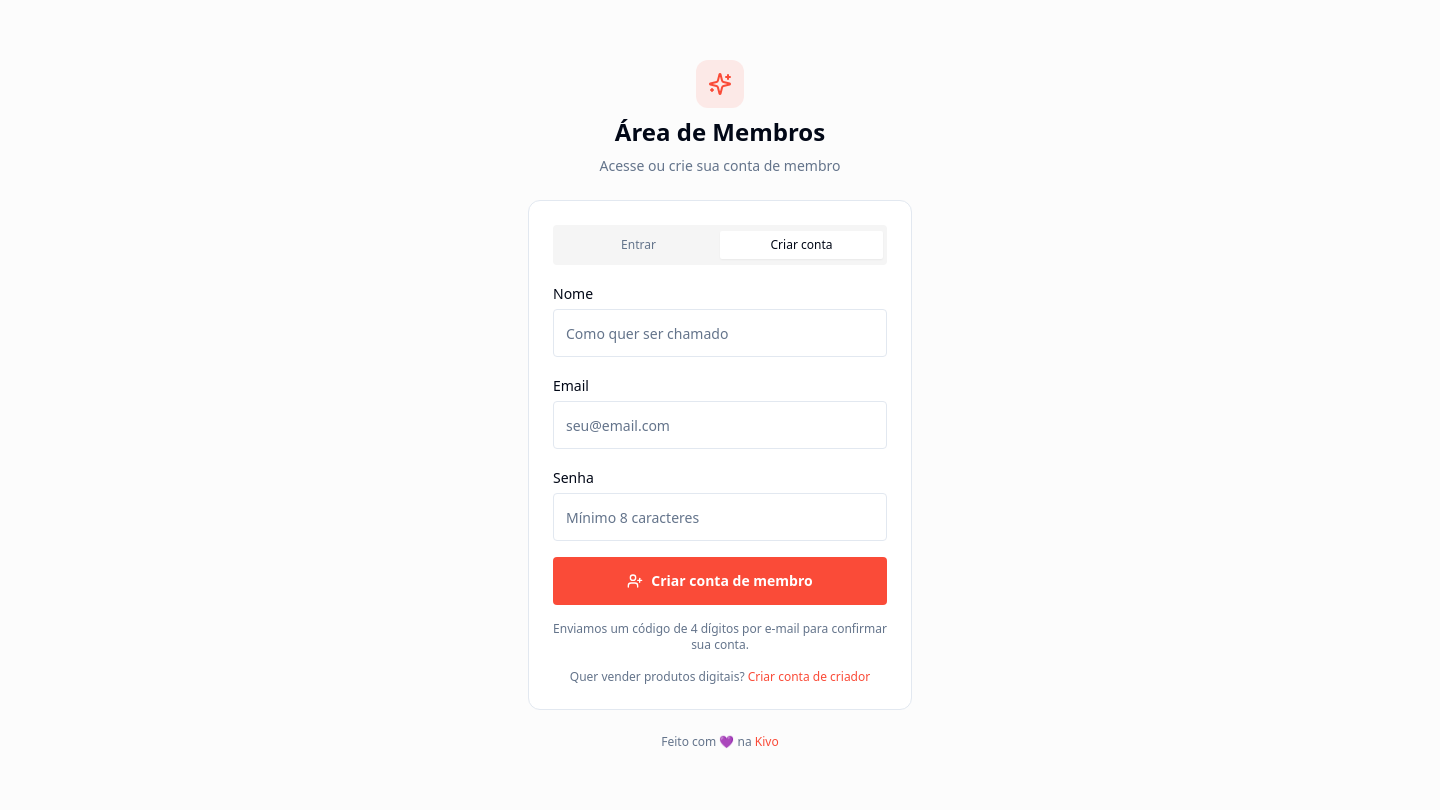
Scenario: MemberLogin — cadastro de membro com código de 4 dígitos › dispara o código e abre o modal de 4 dígitos
In the field with placeholder "seu@email.com": (720, 425) [553,401,887,449], type "novo@membro.com"
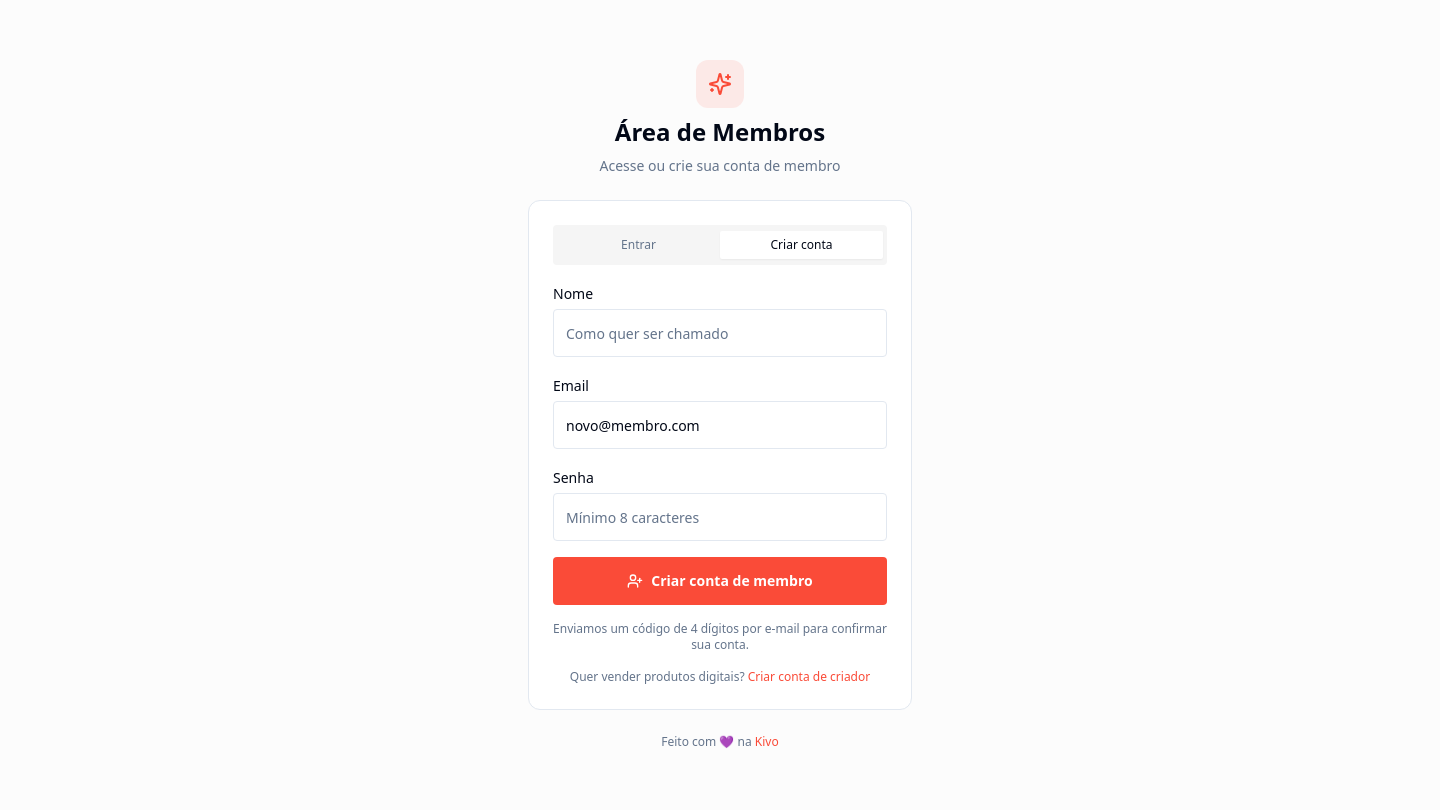
In the password field with placeholder "Mínimo 8 caracteres": (720, 517) [553,493,887,541], type "senhaforte1"
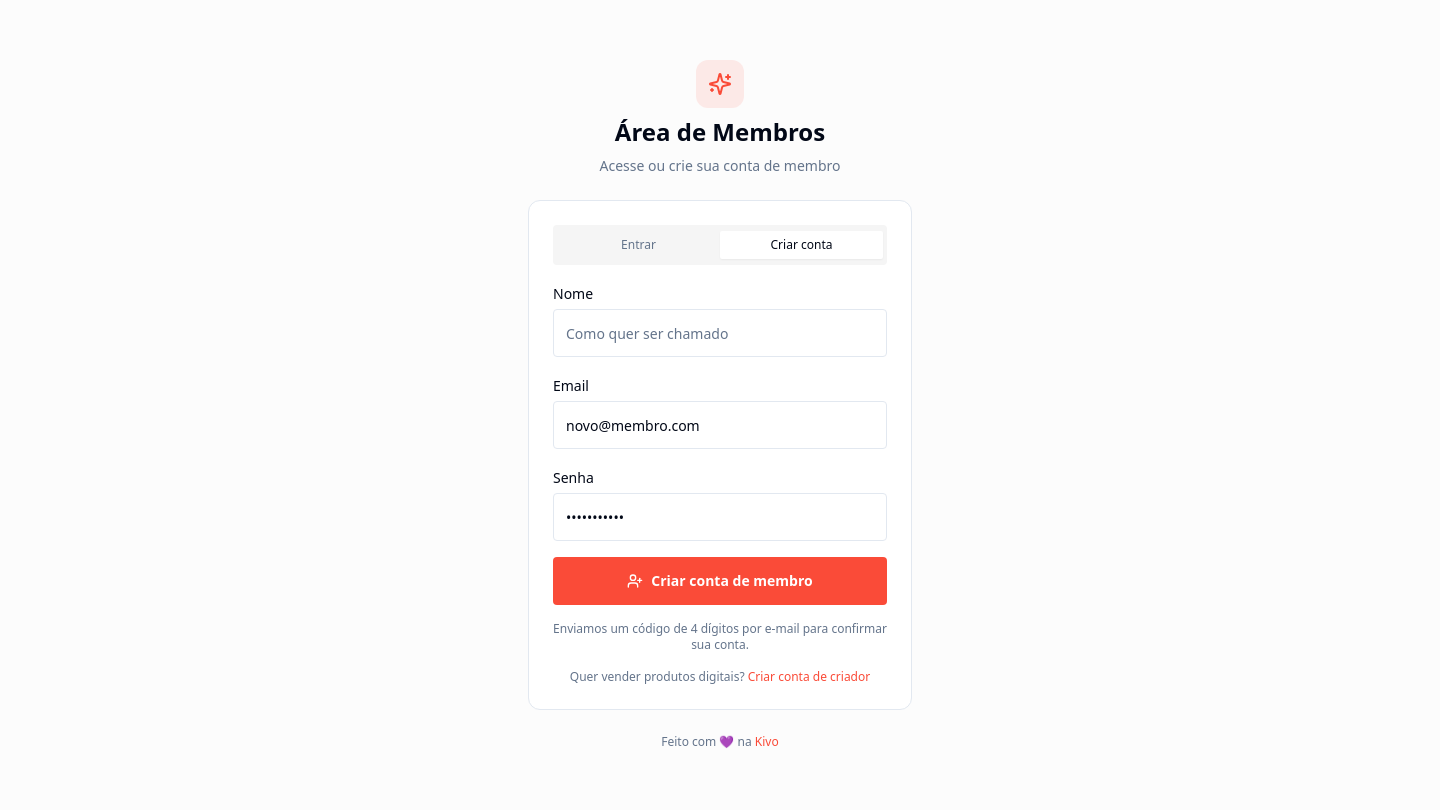
Click the button "Criar conta de membro": (720, 581) [553,557,887,605]
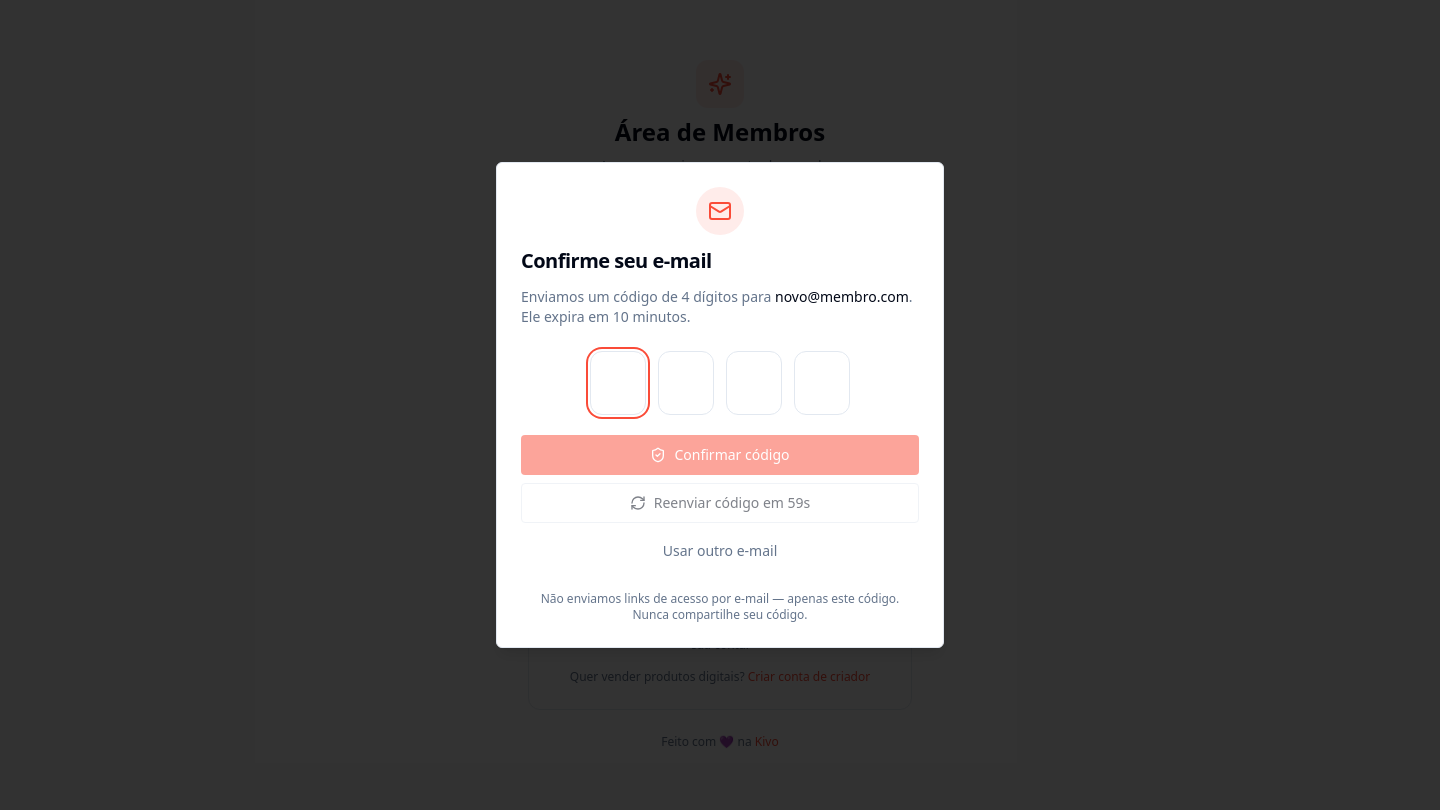
Check: the text "novo@membro.com" is shown, box [775,287,909,306]
